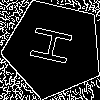H: (28, 23, 83, 70)
